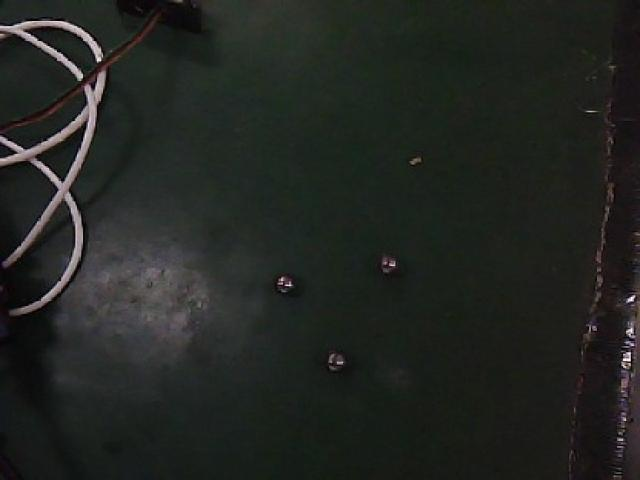steel-ball: (360, 236, 417, 290), (257, 252, 301, 301), (310, 337, 358, 381)
